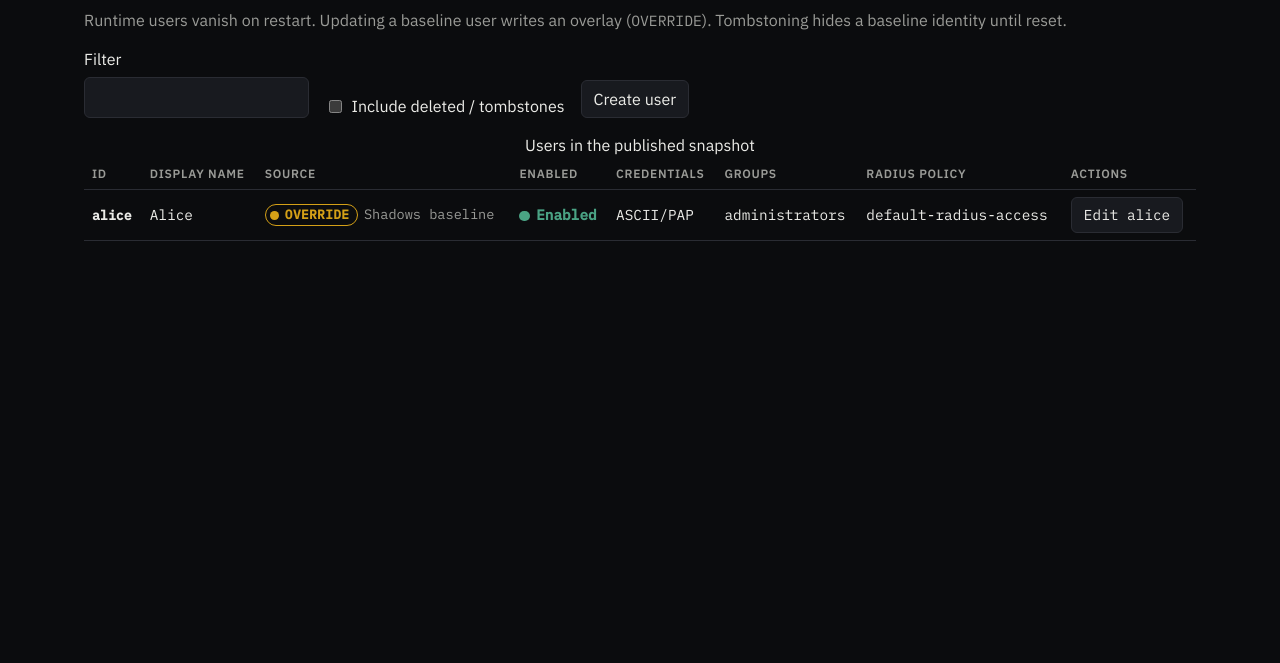
Test: UsersPage › says reveal-baseline drops the overlay and does not kick a NAS
Click the button "Edit alice": (1127, 215) [1071, 198, 1183, 233]
(page scrolled)
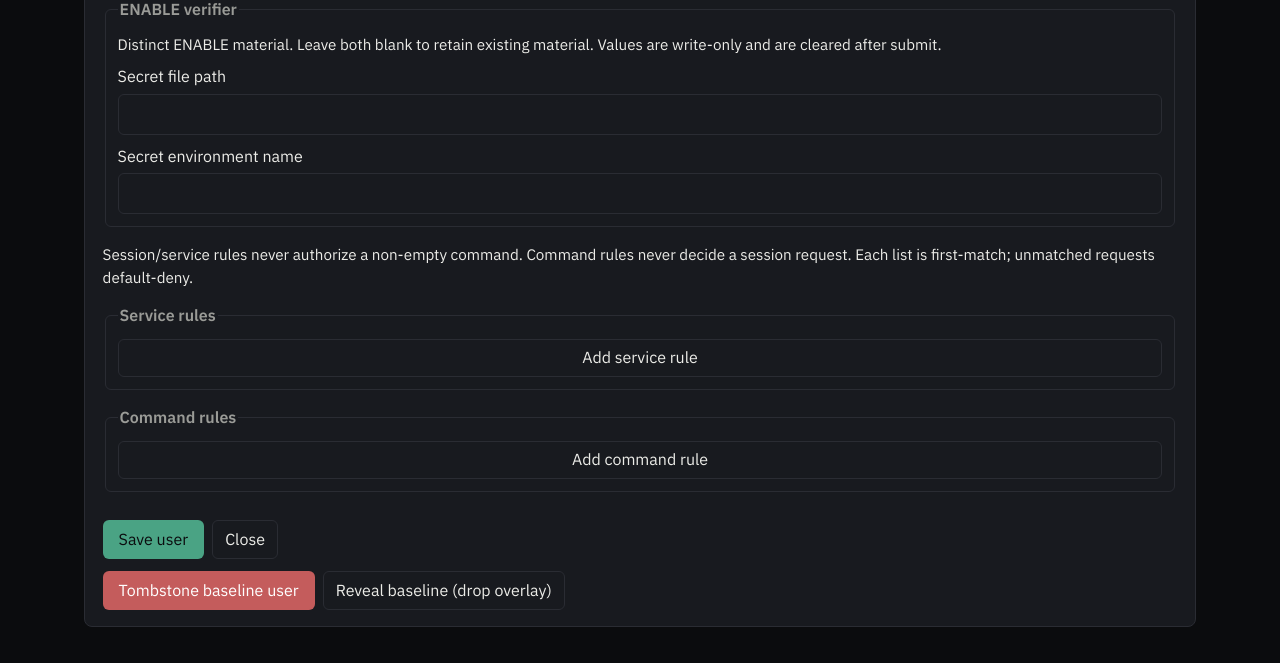
Click the button "Reveal baseline (drop overlay)": (444, 591) [323, 571, 565, 610]
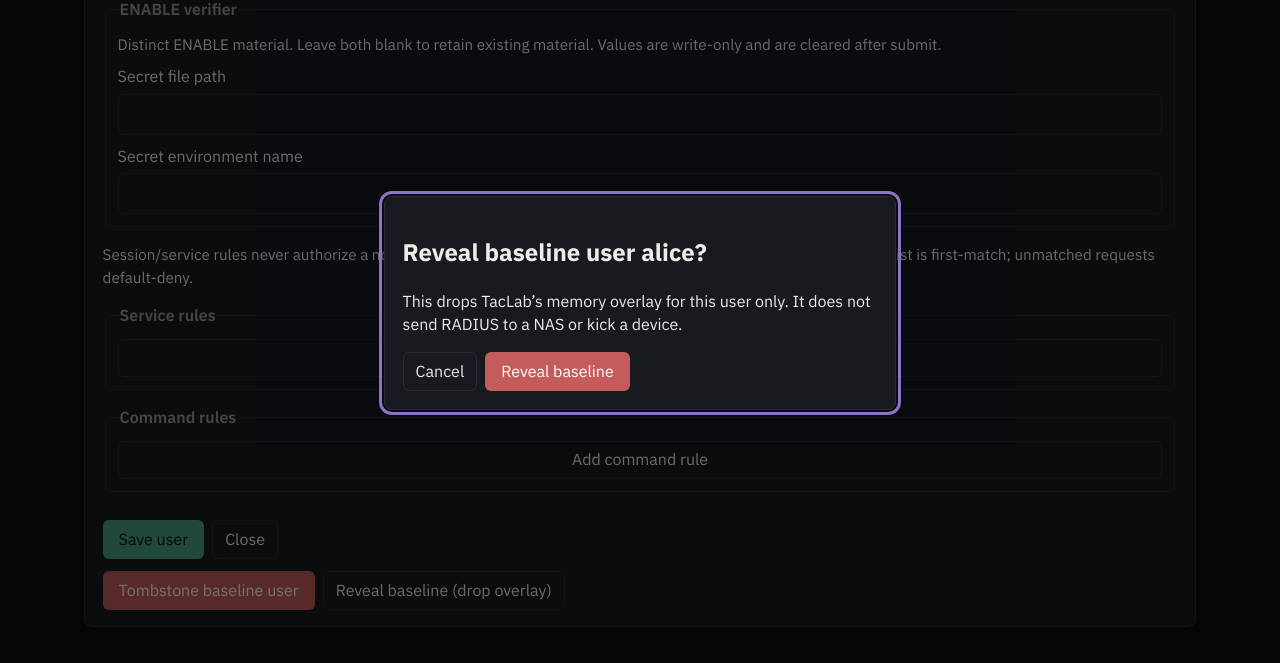
Expected: the dialog "Reveal baseline user alice?" shows "does not send RADIUS to a NAS or kick a device", [403, 290, 871, 334]
Expected: the dialog "Reveal baseline user alice?" shows "memory overlay", [403, 290, 871, 334]
